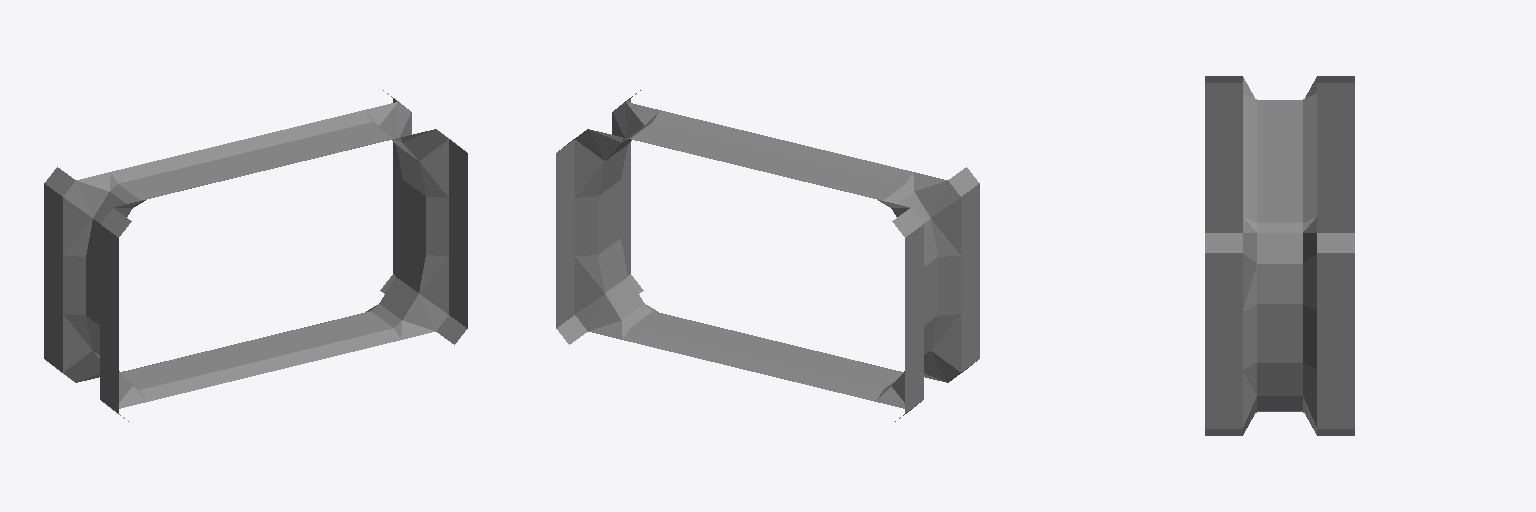
File: Spacer.obj
3 views of the same model, side by side, from view 1: azimuth 30°, elevation 25°; view 2: azimuth 150°, elevation 25°; view 3: azimuth 270°, elevation 25° (orthographic).
Visible parts, largest first — view 1: SM_MidSpan_Corridor_E; view 2: SM_MidSpan_Corridor_E; view 3: SM_MidSpan_Corridor_E.
Boxes of the visible parts, <box> form: SM_MidSpan_Corridor_E: <box>44,90,467,421</box>; SM_MidSpan_Corridor_E: <box>556,90,979,421</box>; SM_MidSpan_Corridor_E: <box>1205,76,1354,435</box>.
Bounding box in the file's own units: 213 × 118 × 78.74.